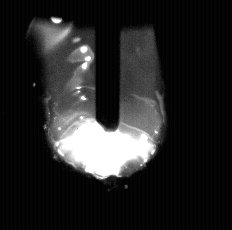arame: (96, 0, 121, 133)
poca: (55, 0, 155, 230)
